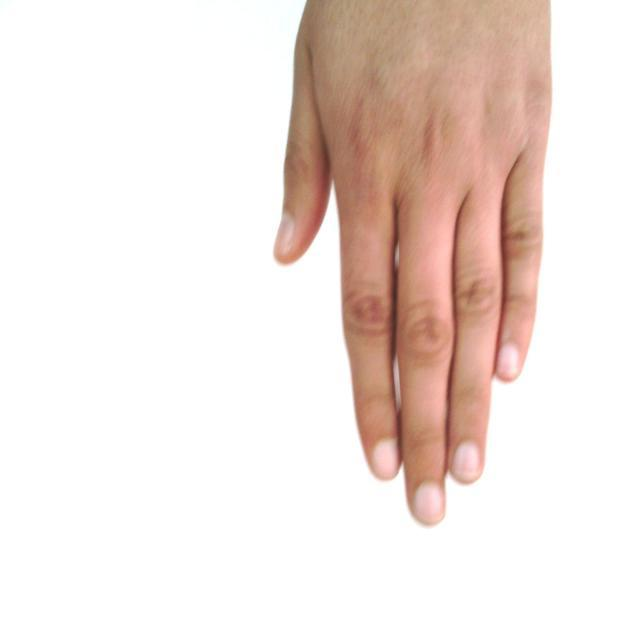Fingernail: (415, 483, 443, 524), (453, 443, 479, 480), (373, 441, 399, 478), (275, 213, 294, 256), (499, 345, 521, 377)
